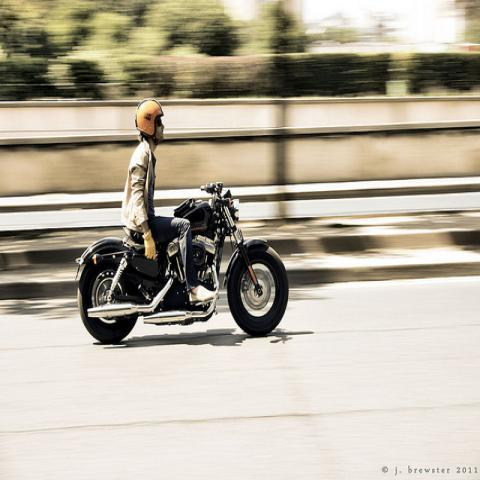motorcycle: (75, 181, 288, 343)
